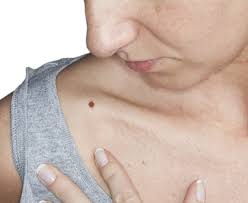mole: (83, 98, 97, 110)
